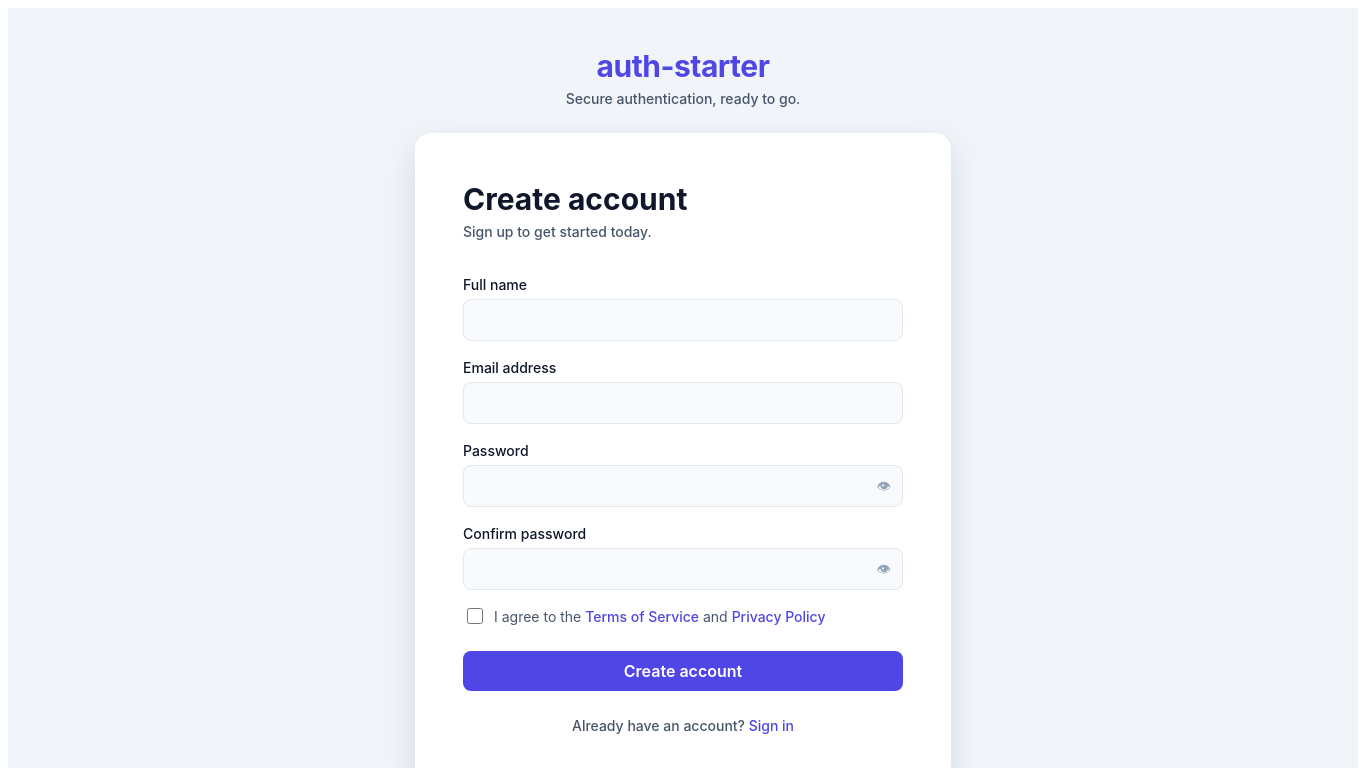
it: RegisterPage › field validation on blur › shows email error when field is blurred with invalid value
Type "notanemail" into the field labelled "Email address" at (683, 403), box top-left (463, 382), bottom-right (903, 424)
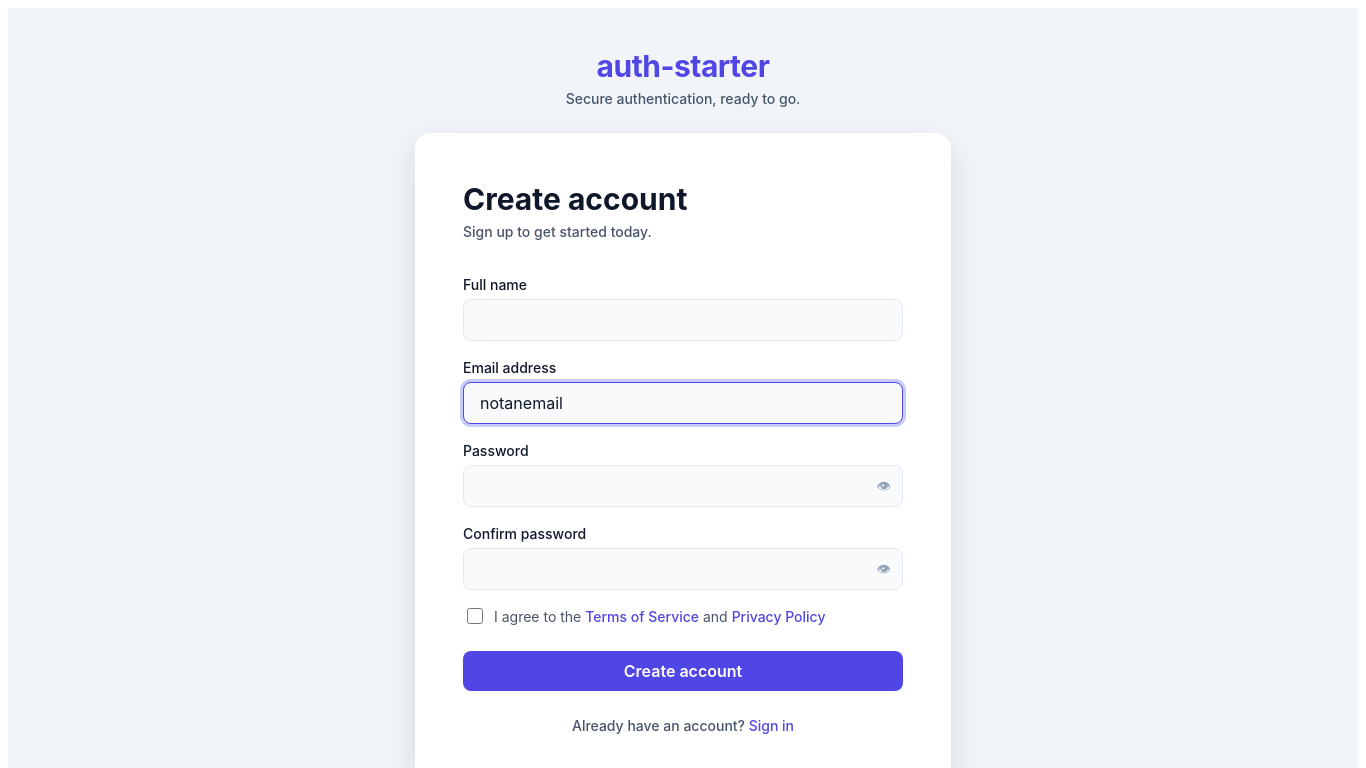
Leave the field labelled "Email address", box top-left (463, 382), bottom-right (903, 424)
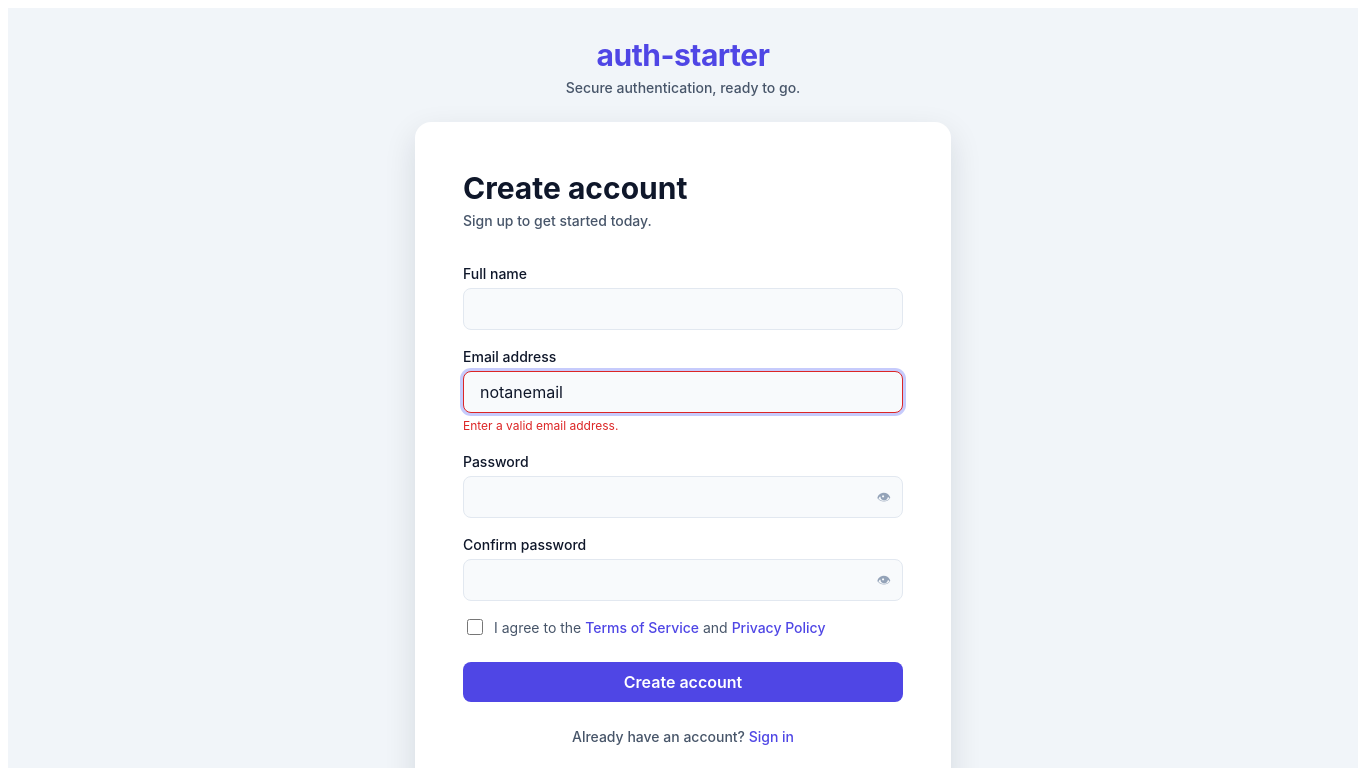
expect the text "Enter a valid email address." is shown: met, box top-left (463, 418), bottom-right (618, 433)
